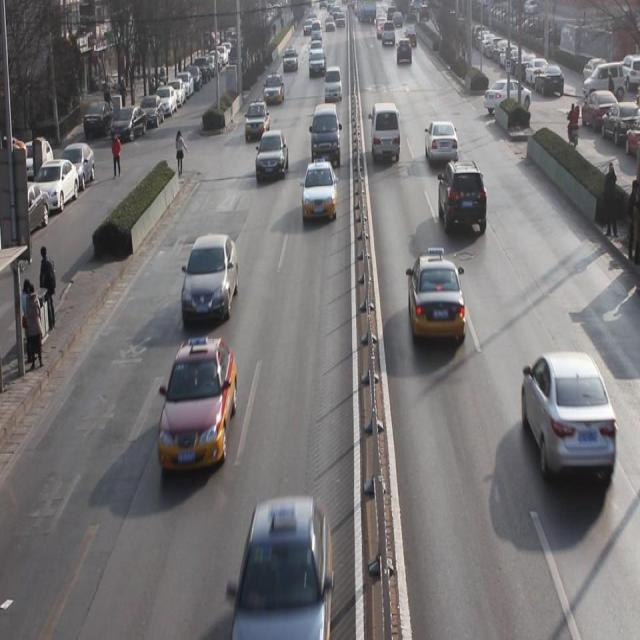car: (235, 503, 333, 640), (521, 348, 614, 491), (157, 338, 238, 476), (408, 252, 465, 351), (180, 236, 239, 323), (438, 160, 488, 238), (301, 162, 339, 225), (256, 130, 289, 182), (426, 120, 459, 166), (244, 101, 271, 141), (263, 74, 286, 106), (308, 51, 326, 79), (282, 48, 299, 75)
truck: (308, 102, 342, 167), (370, 105, 401, 166), (323, 67, 343, 105)
